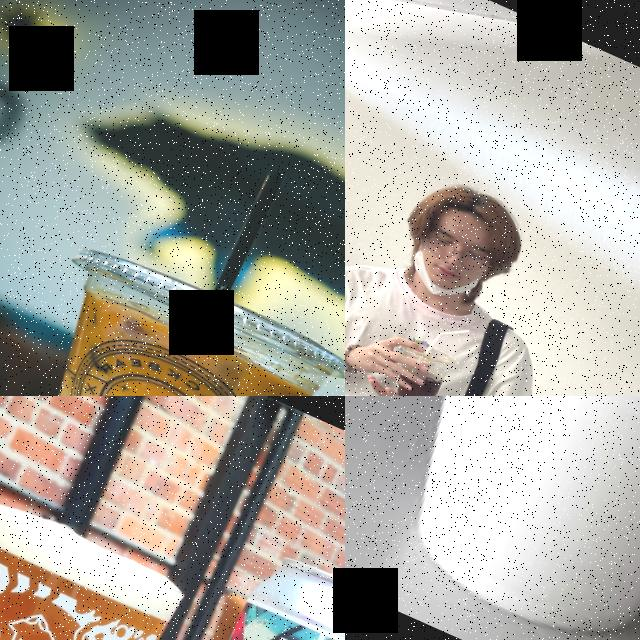can: (101, 543, 345, 640)
cup: (345, 396, 640, 640), (0, 231, 345, 396), (0, 497, 186, 640), (379, 332, 458, 396)
